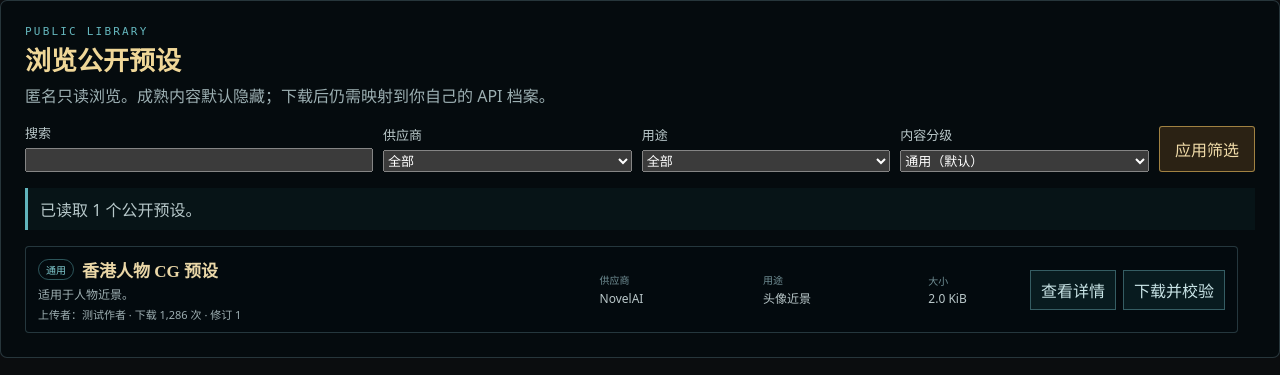
Test case: WorkshopBrowseScreen › hands a verified download to the local import boundary
This screenshot has width=1280, height=375.
Click the button "下载并校验": point(1174, 290) [1123, 270, 1225, 310]
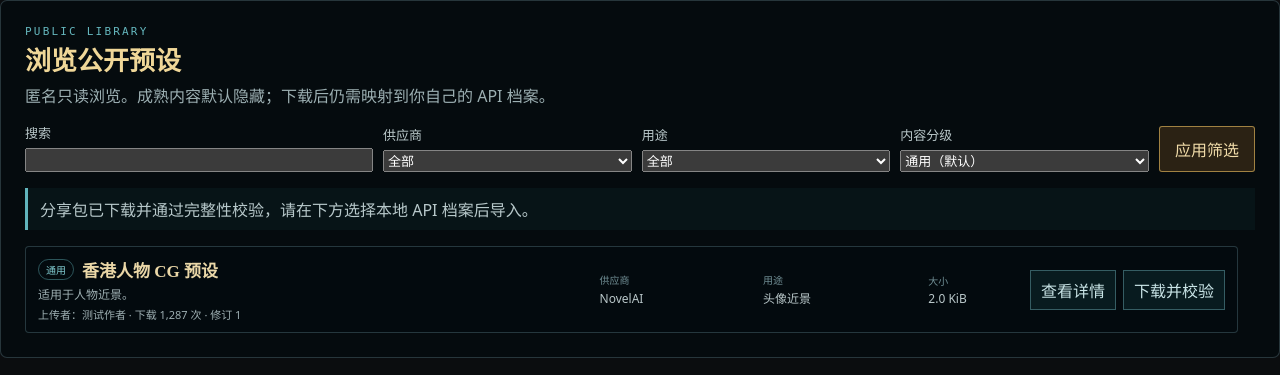
Result: the list item shows "下载 1,287 次" at [25, 246, 1238, 333]
Result: the text "分享包已下载并通过完整性校验，请在下方选择本地 API 档案后导入。" is shown at [25, 188, 1255, 230]
